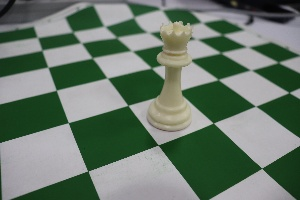white_queen: (143, 12, 194, 134)
